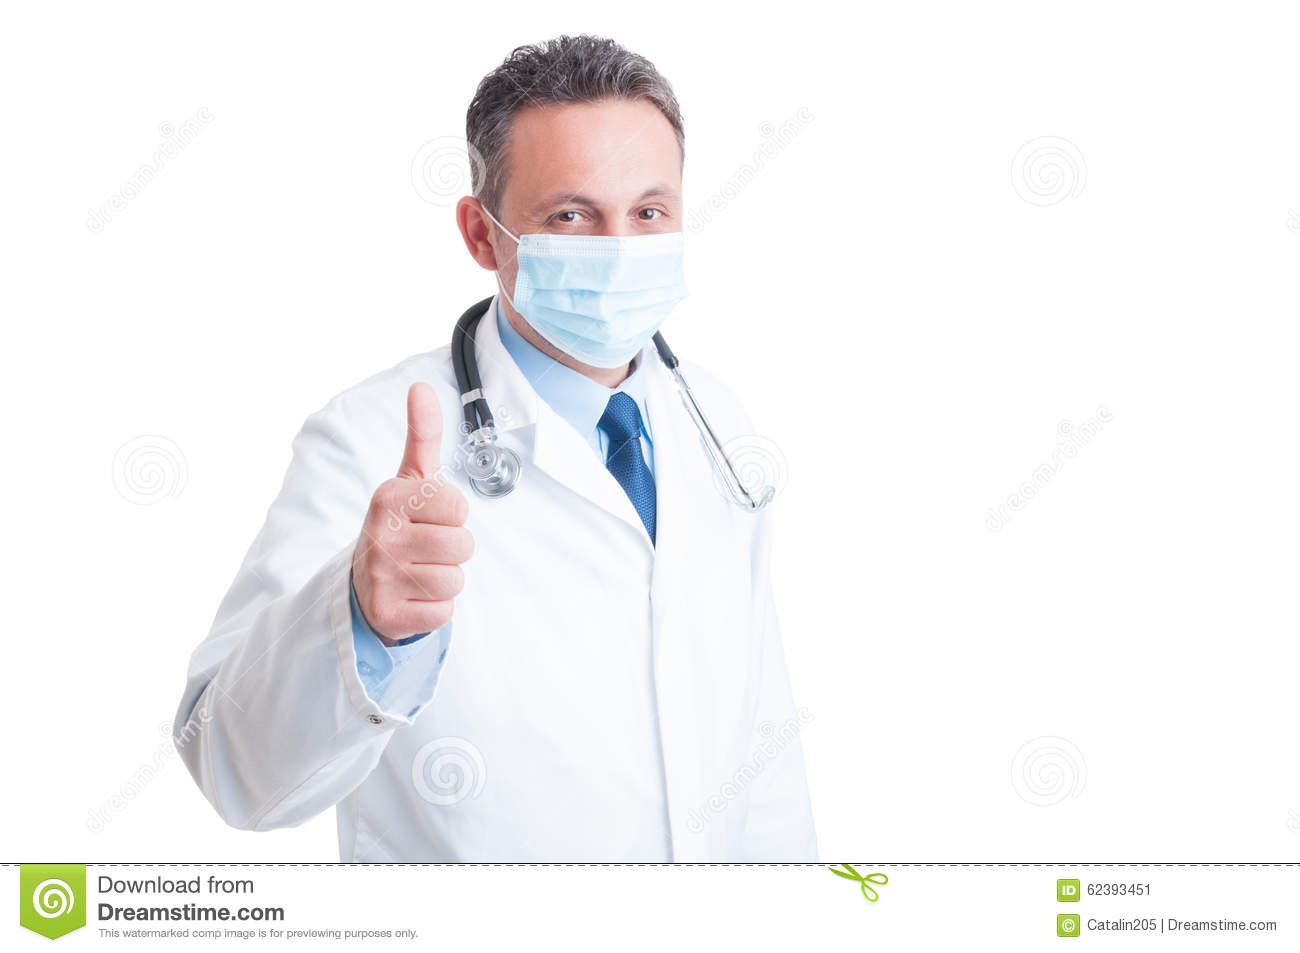mask: (503, 224, 705, 378)
